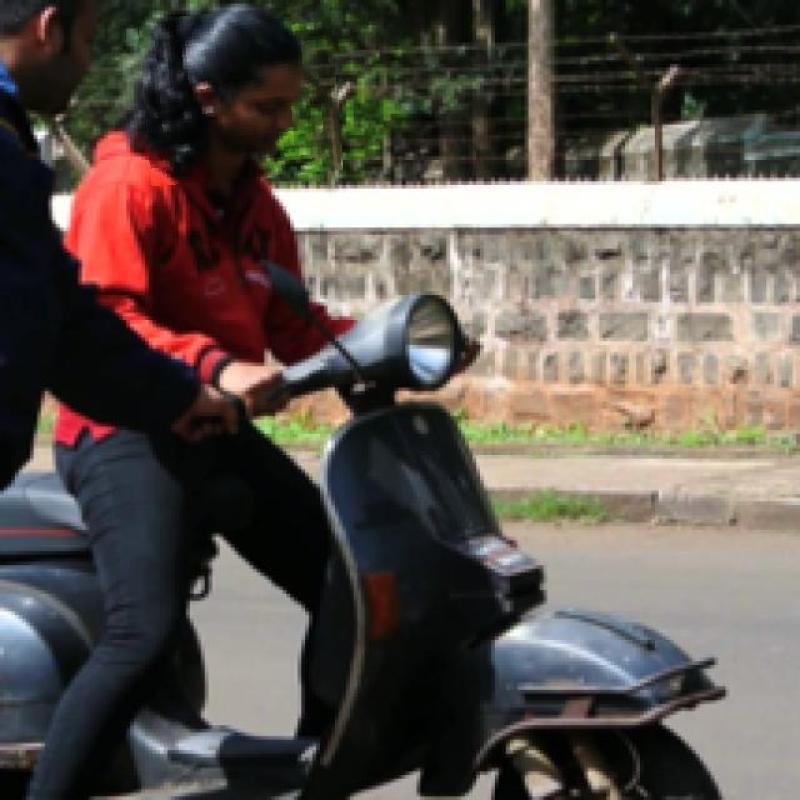nohelmet: (141, 7, 340, 182)
